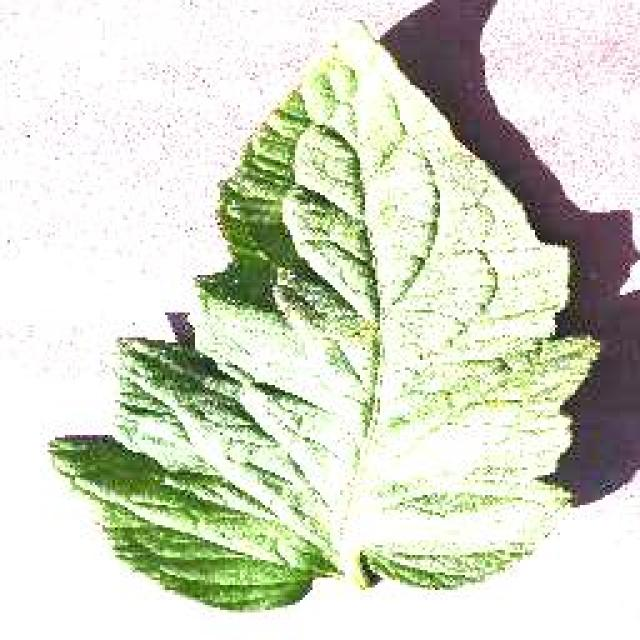Tomato___Target_Spot: (50, 25, 598, 605)
